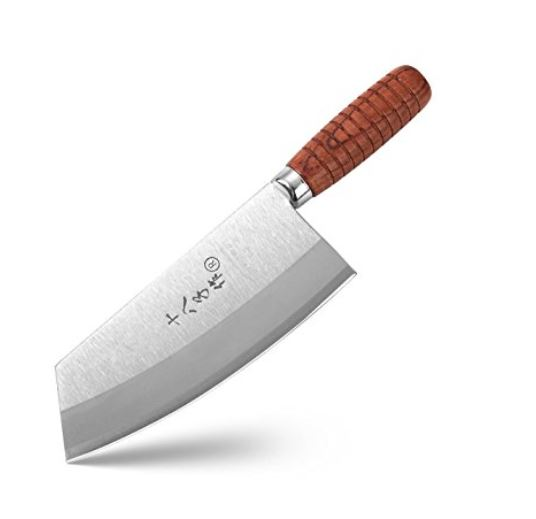knief: (40, 74, 436, 473)
